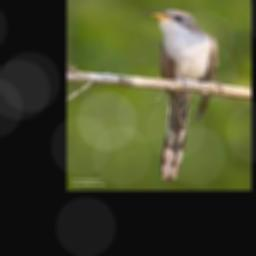Cuckoo: (143, 9, 217, 179)
